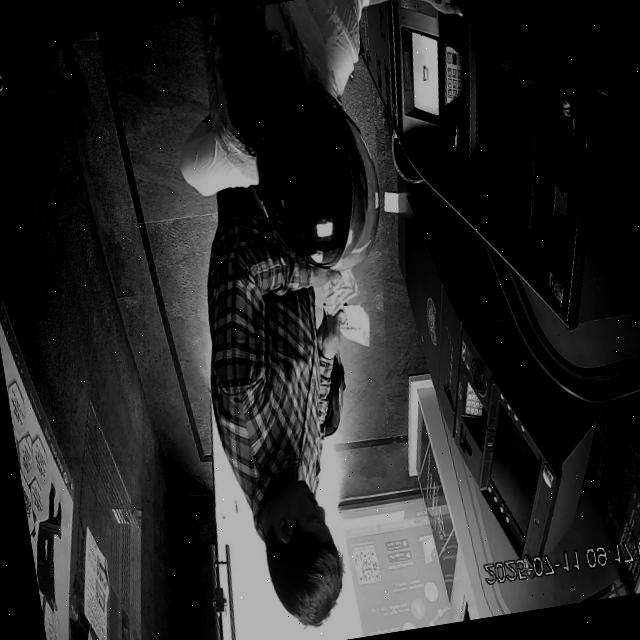helmet: (256, 81, 380, 273)
no_helmet: (262, 464, 344, 627)
